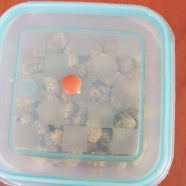Dolorex: (61, 74, 82, 95)
